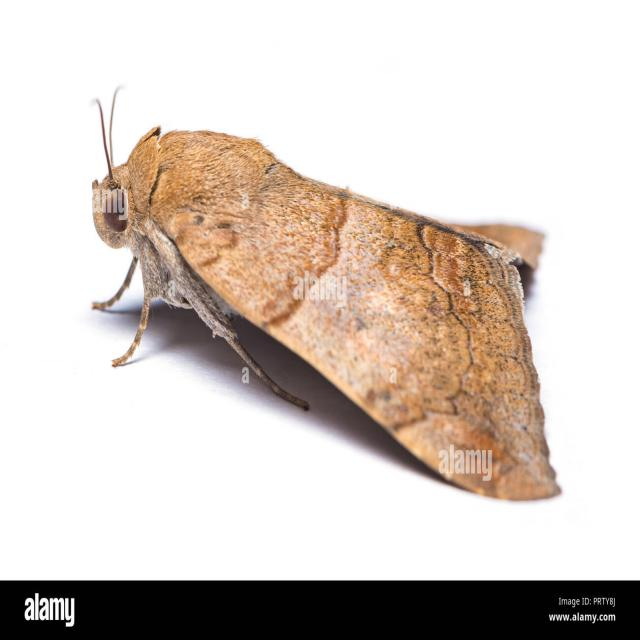cornborer-Adult-: (71, 84, 578, 515)
